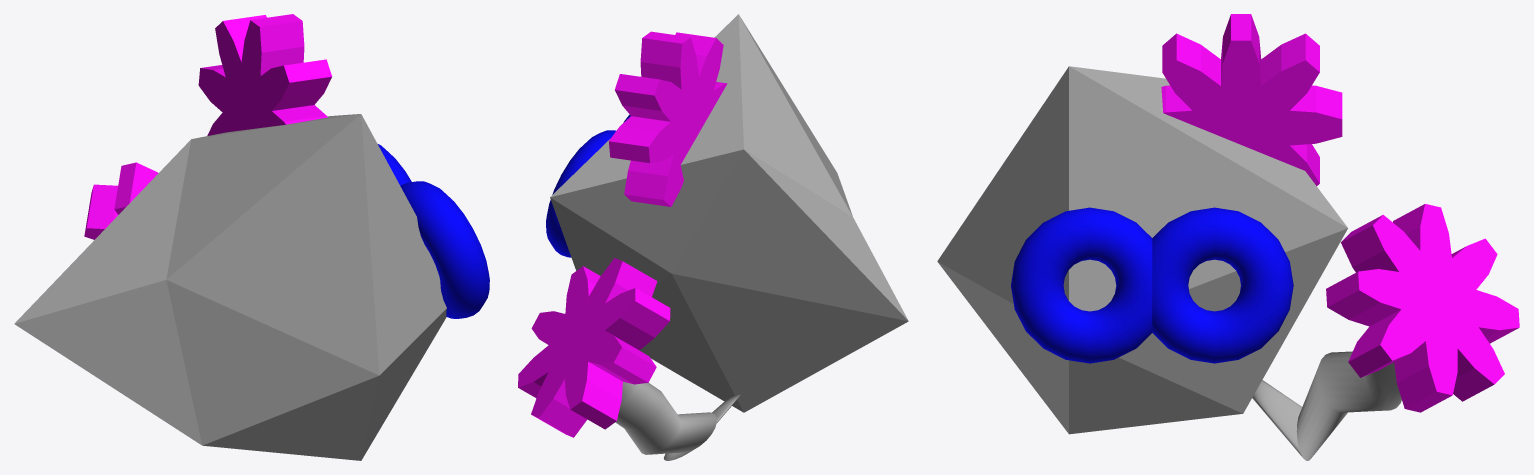
File: character5_1.fbx
The picture shows the model from 3 angles, left to right: view 1: azimuth 30°, elevation 25°; view 2: azimuth 150°, elevation 25°; view 3: azimuth 270°, elevation 25°; orthographic projection. The views are drawn at different scales.
Visible parts, largest first — view 1: pPlatonic1, pGear3, pTorus1, pGear4; view 2: pPlatonic1, pGear4, pGear3, pCylinder14, pTorus2; view 3: pPlatonic1, pGear4, pGear3, pTorus1, pTorus2, pCylinder14.
Part boxes in pixels (bbox=[...]): pPlatonic1: bbox=[14, 114, 446, 460]; pGear3: bbox=[198, 14, 332, 135]; pTorus1: bbox=[400, 181, 489, 318]; pGear4: bbox=[84, 162, 158, 239]; pPlatonic1: bbox=[550, 14, 908, 412]; pGear4: bbox=[518, 258, 670, 437]; pGear3: bbox=[609, 31, 727, 206]; pCylinder14: bbox=[615, 381, 740, 460]; pTorus2: bbox=[546, 130, 615, 257]; pPlatonic1: bbox=[937, 66, 1347, 434]; pGear4: bbox=[1326, 204, 1519, 412]; pGear3: bbox=[1161, 14, 1342, 185]; pTorus1: bbox=[1011, 207, 1152, 363]; pTorus2: bbox=[1152, 207, 1293, 363]; pCylinder14: bbox=[1252, 351, 1401, 460].
Size of the model in its own units: 8.94 by 9.44 by 11.05.
